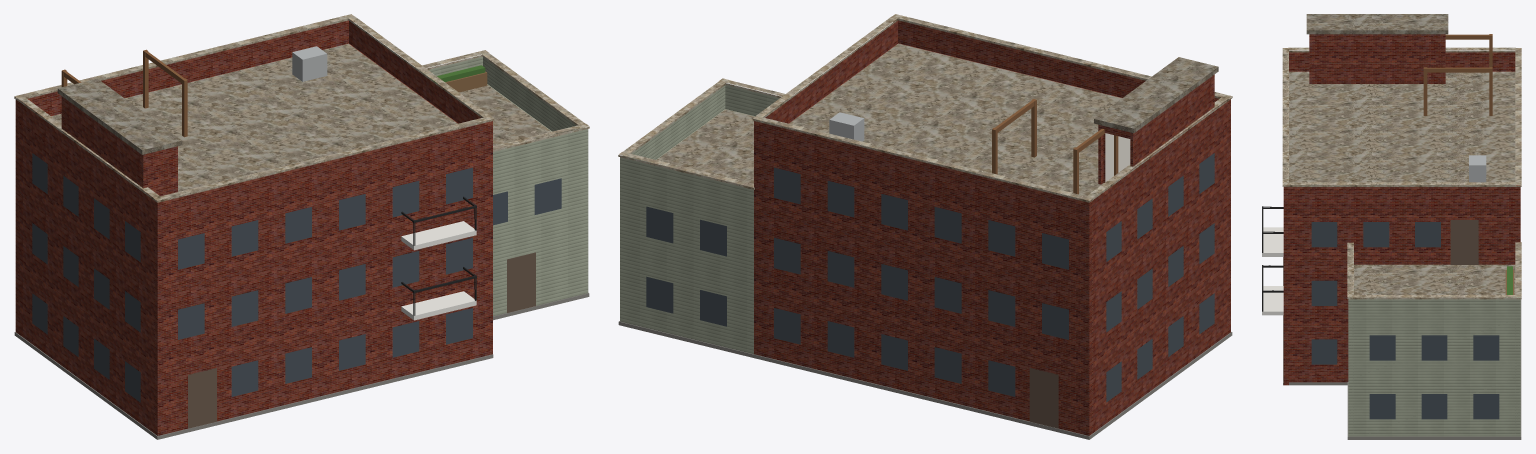
The model's file is ns-garden-apartments.zfix-v22.lod1.glb.
The picture shows the model from 3 angles, left to right: view 1: azimuth 30°, elevation 25°; view 2: azimuth 150°, elevation 25°; view 3: azimuth 270°, elevation 25°; orthographic projection. The views are drawn at different scales.
Parts seen in each view (by area): view 1: ns-garden-apartments; view 2: ns-garden-apartments; view 3: ns-garden-apartments.
Boxes of the visible parts, x1,y1,x2,y2 form: ns-garden-apartments: [14, 14, 589, 439]; ns-garden-apartments: [618, 14, 1232, 439]; ns-garden-apartments: [1262, 14, 1521, 439].
Bounding box in the file's own units: 21.12 × 11.95 × 12.07.
Materials: 4 (3 with a texture image).
